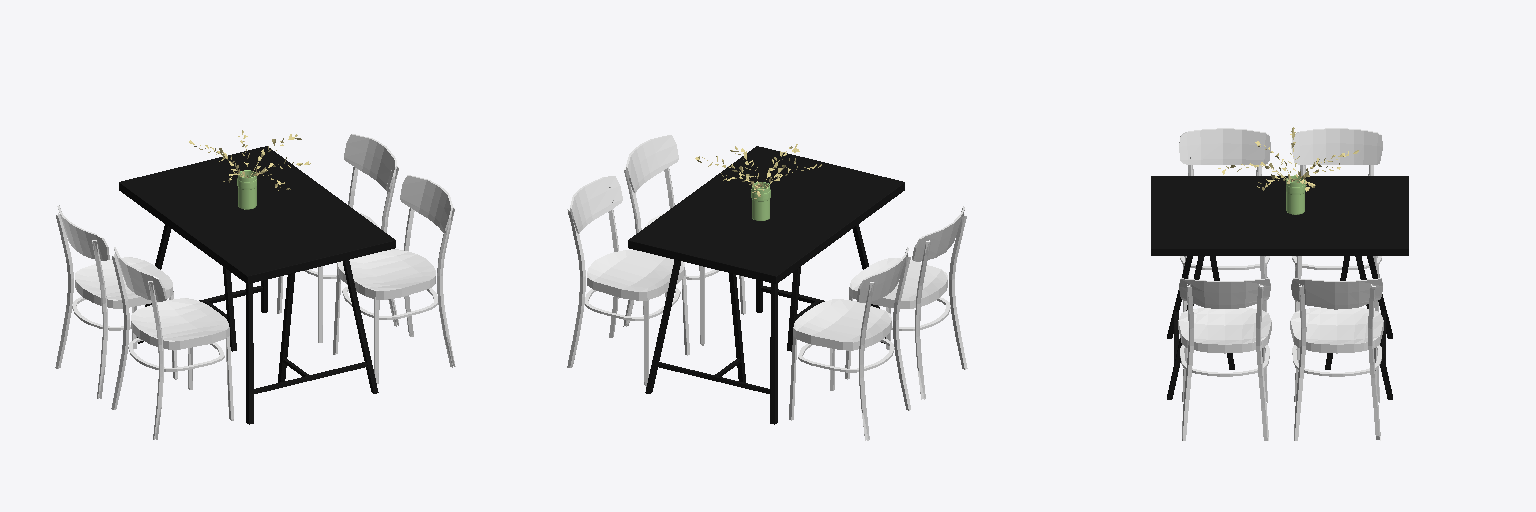
The model's file is table.obj.
3 views of the same model, side by side, from view 1: azimuth 30°, elevation 25°; view 2: azimuth 150°, elevation 25°; view 3: azimuth 270°, elevation 25° (orthographic).
Parts seen in each view (by area): view 1: diining_furnitures_29__vray1:diining_furnitures_29_008 diining_f, diining_furnitures_29__vray1:diining_furnitures_29_002 diining_f; view 2: diining_furnitures_29__vray1:diining_furnitures_29_008 diining_f, diining_furnitures_29__vray1:diining_furnitures_29_002 diining_f; view 3: diining_furnitures_29__vray1:diining_furnitures_29_008 diining_f, diining_furnitures_29__vray1:diining_furnitures_29_002 diining_f.
Boxes of the visible parts, x1=… form: diining_furnitures_29__vray1:diining_furnitures_29_008 diining_f: x1=55, y1=130, x2=455, y2=439; diining_furnitures_29__vray1:diining_furnitures_29_002 diining_f: x1=277, y1=134, x2=398, y2=342; diining_furnitures_29__vray1:diining_furnitures_29_008 diining_f: x1=623, y1=135, x2=967, y2=440; diining_furnitures_29__vray1:diining_furnitures_29_002 diining_f: x1=567, y1=176, x2=689, y2=386; diining_furnitures_29__vray1:diining_furnitures_29_008 diining_f: x1=1151, y1=127, x2=1408, y2=440; diining_furnitures_29__vray1:diining_furnitures_29_002 diining_f: x1=1290, y1=278, x2=1383, y2=440.
Size of the model in its own units: 16.23 by 10.98 by 11.48.